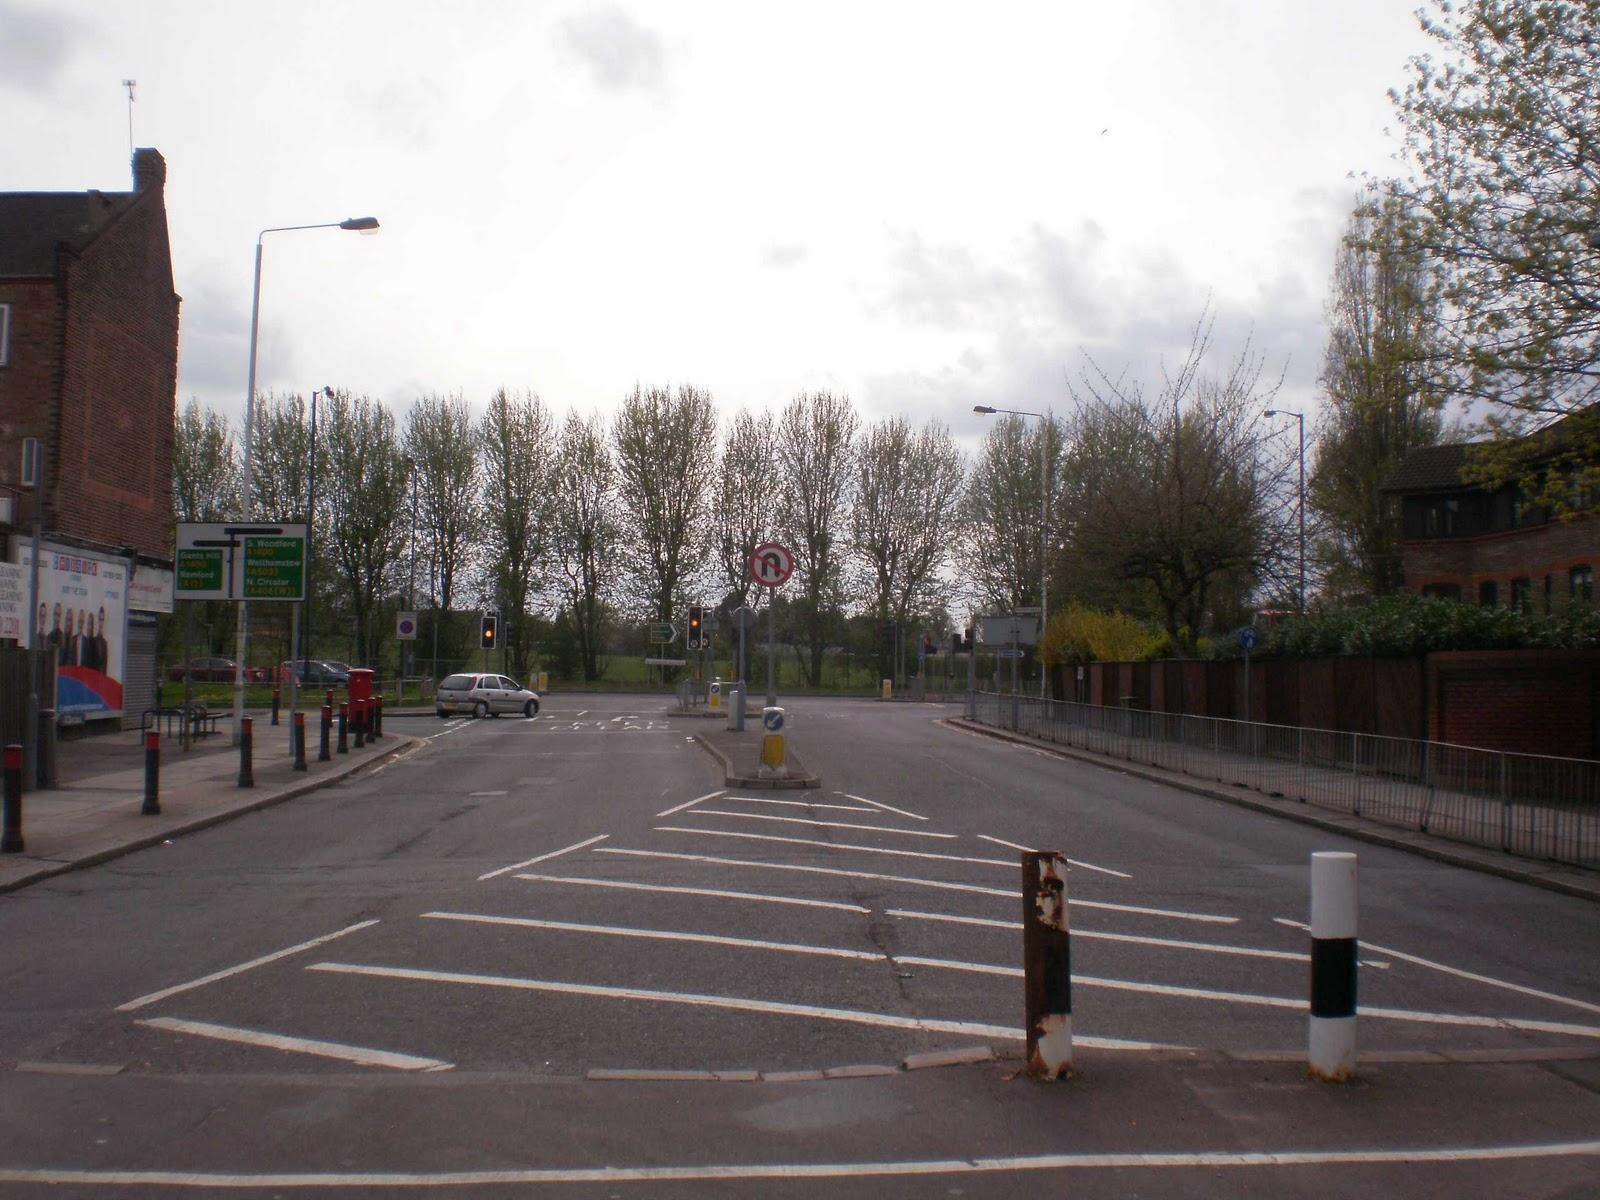no_u_turn: (750, 542, 792, 586)
